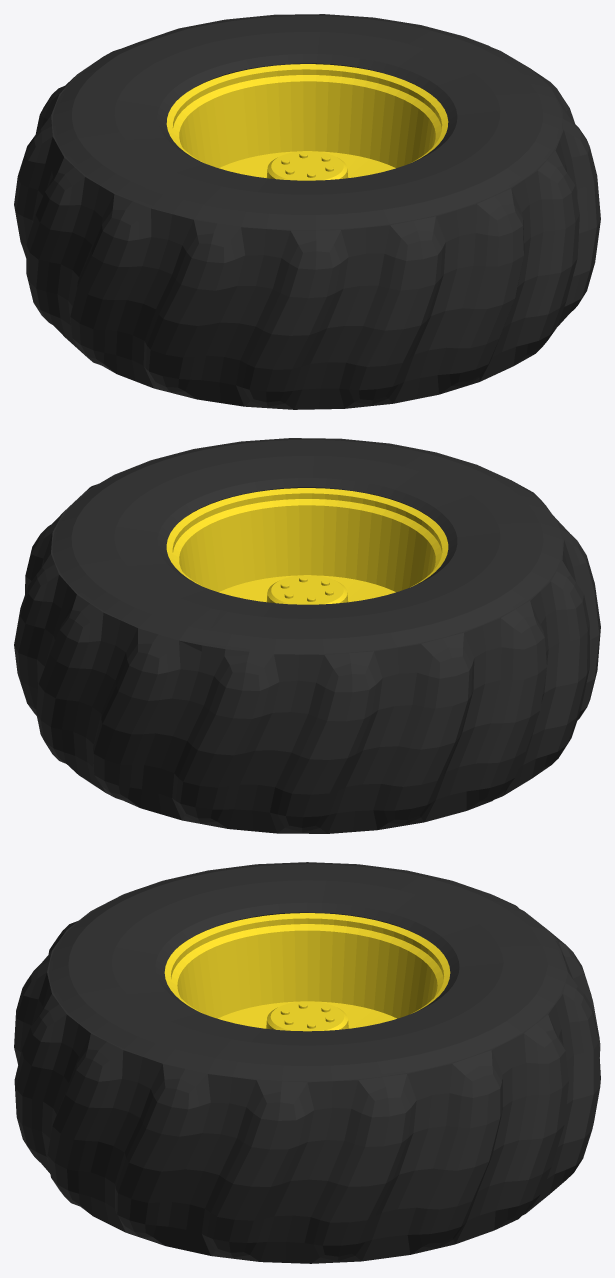
File: wheel.FBX
3 renders of one model, top to bottom at view 1: azimuth 30°, elevation 25°; view 2: azimuth 150°, elevation 25°; view 3: azimuth 270°, elevation 25°, orthographic.
Parts seen in each view (by area): view 1: Cylinder; view 2: Cylinder; view 3: Cylinder.
Part boxes in pixels (x1,y1,x2,y2): Cylinder: (14, 14, 600, 409); Cylinder: (14, 438, 600, 833); Cylinder: (14, 862, 600, 1263).
Bounding box in the file's own units: 29.99 × 11.27 × 29.99.
